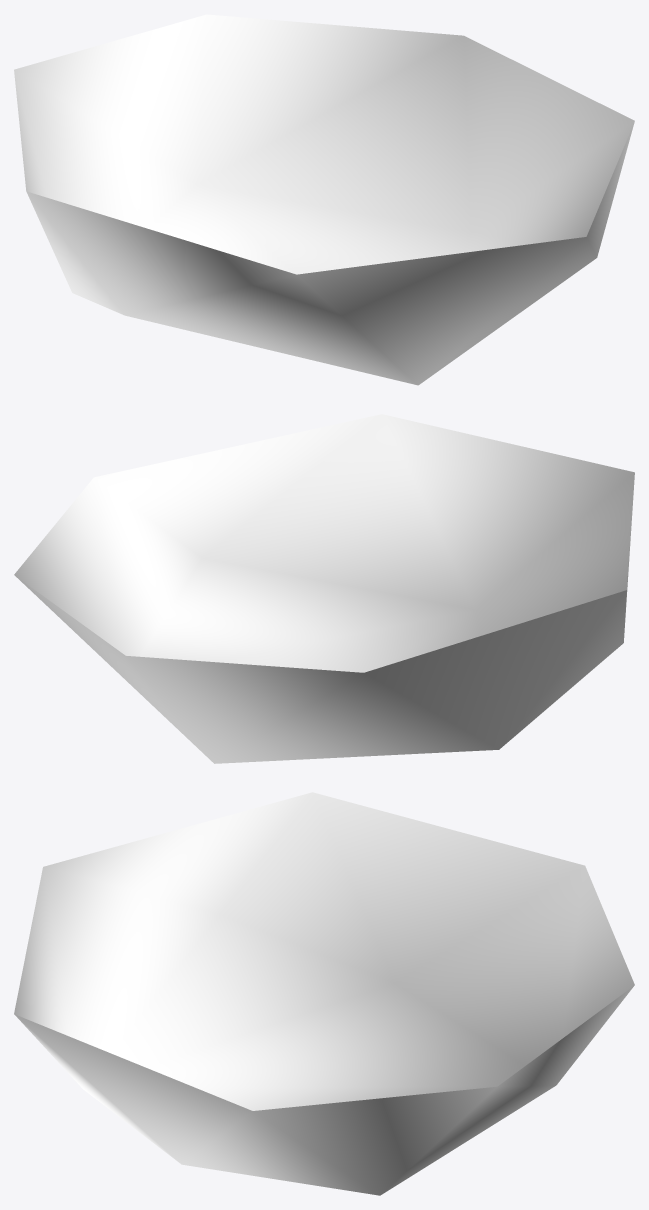
3 views of the same model, one above another, from view 1: azimuth 30°, elevation 25°; view 2: azimuth 150°, elevation 25°; view 3: azimuth 270°, elevation 25° (orthographic). The views are drawn at different scales.
Size of the model in its own units: 0.2014 by 0.0611 by 0.194.
Materials: 1 (1 with a texture image).
